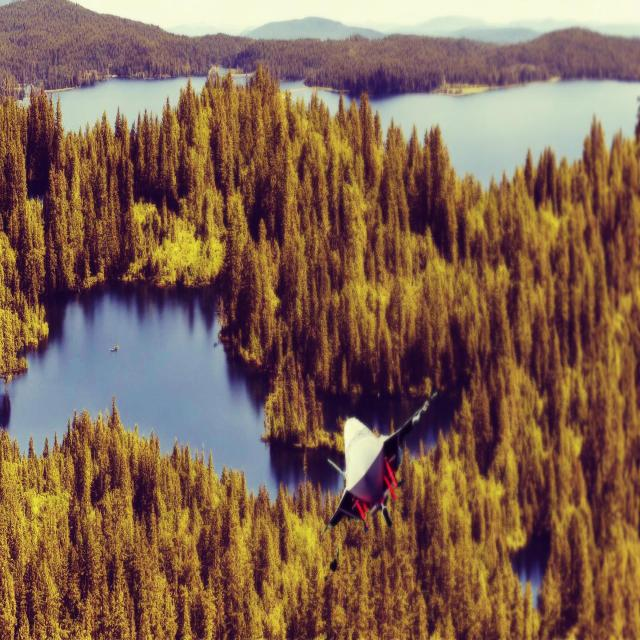airplane: (321, 390, 437, 534)
